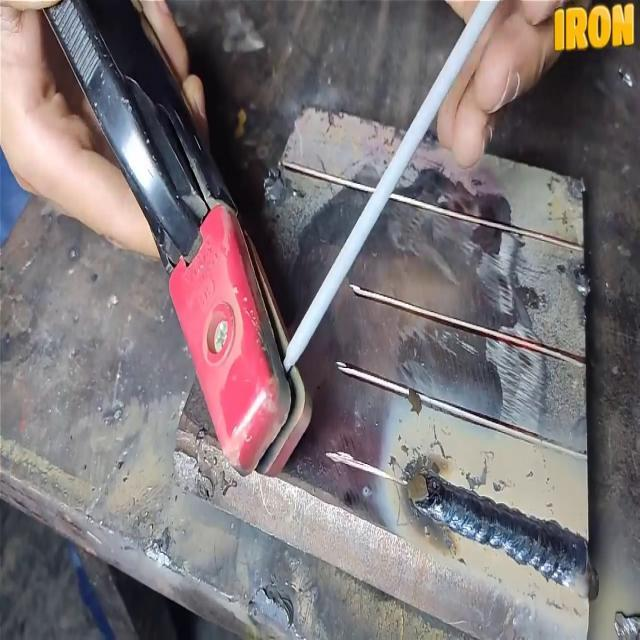Good Welding: (451, 485, 562, 576)
